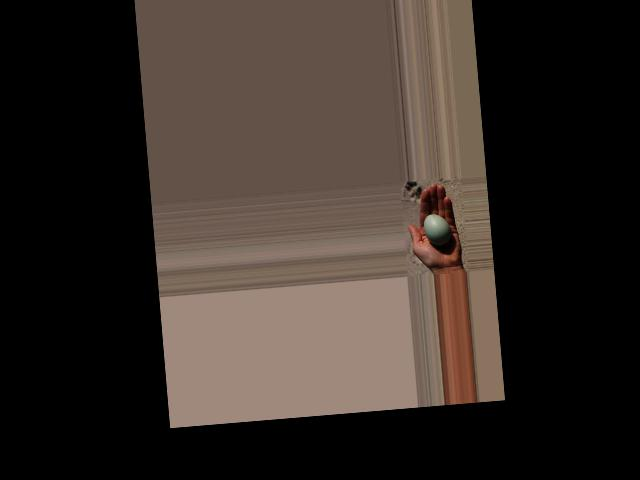egg: (423, 211, 452, 245)
